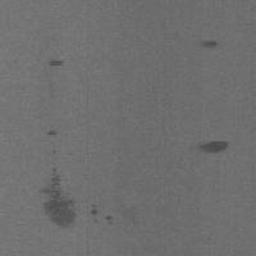Oil spot: (37, 165, 81, 232), (196, 140, 230, 155), (192, 38, 223, 50), (47, 56, 65, 68), (88, 202, 100, 218), (50, 148, 60, 161), (104, 214, 114, 227), (46, 128, 59, 137)
